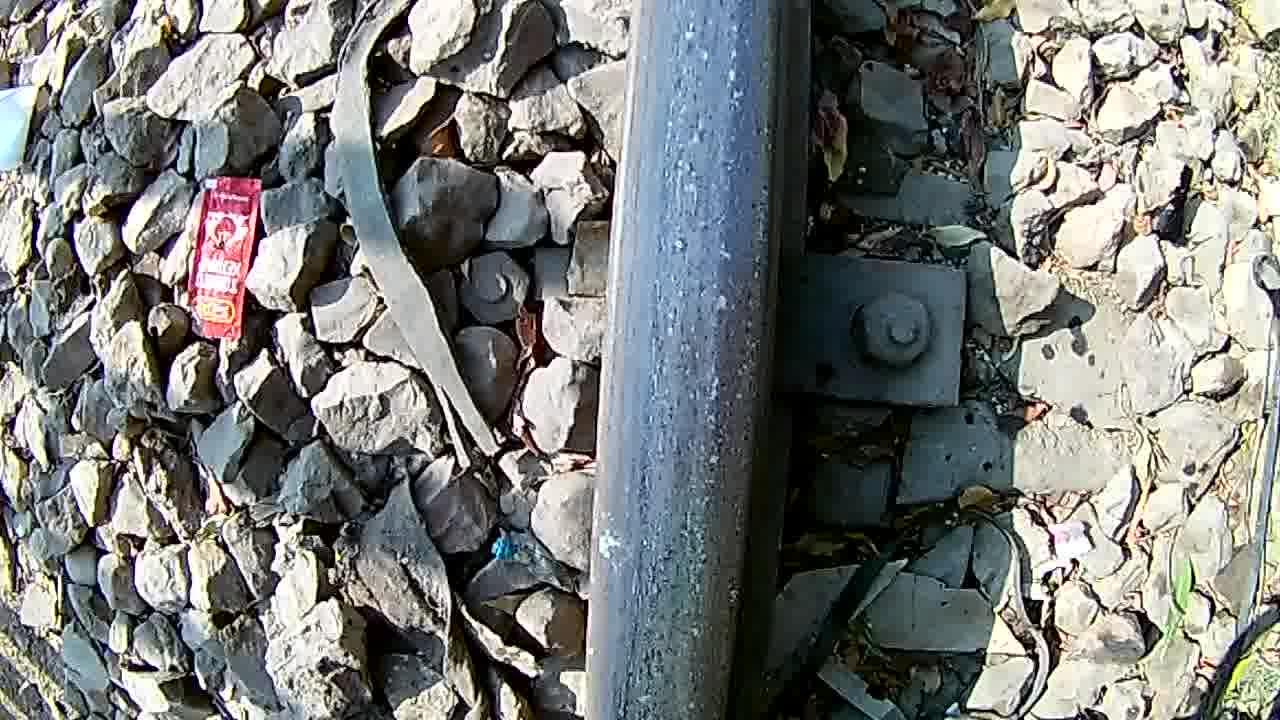clip_missing: (602, 0, 793, 720)
